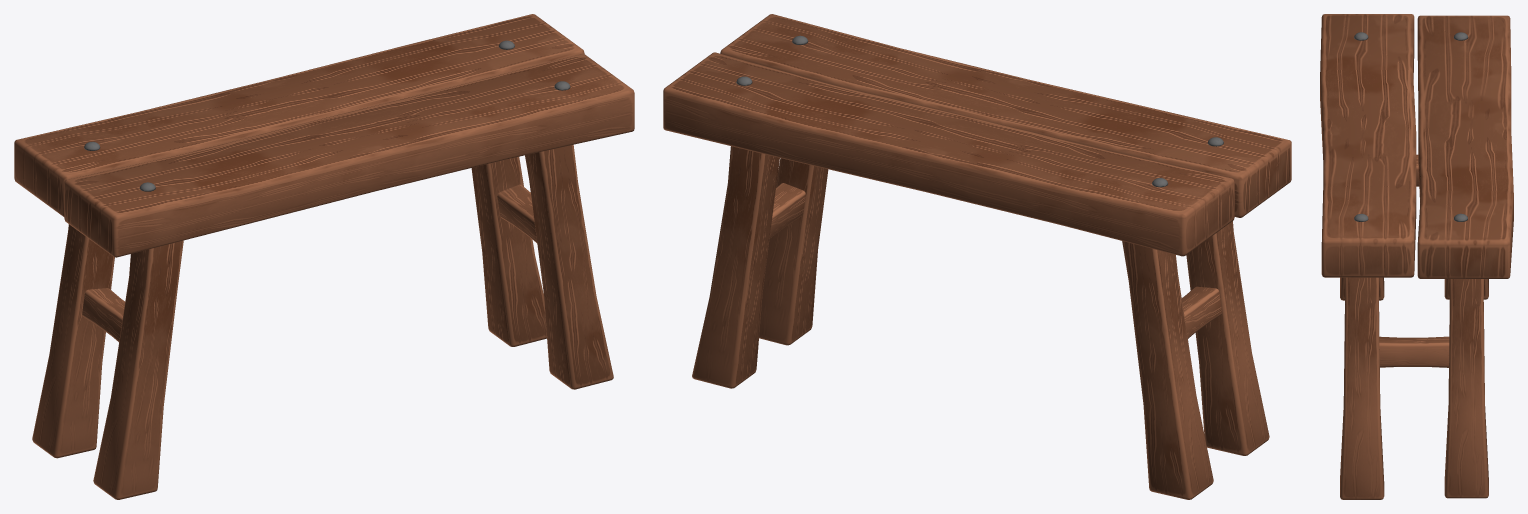
File: bench_2.fbx
3 views of the same model, side by side, from view 1: azimuth 30°, elevation 25°; view 2: azimuth 150°, elevation 25°; view 3: azimuth 270°, elevation 25° (orthographic). The views are drawn at different scales.
Visible parts, largest first — view 1: bench_2; view 2: bench_2; view 3: bench_2.
Boxes of the visible parts, <box> form: bench_2: <box>14,14,634,499</box>; bench_2: <box>663,14,1291,499</box>; bench_2: <box>1320,14,1513,499</box>.
Bounding box in the file's own units: 5.84 × 3.19 × 2.08.
